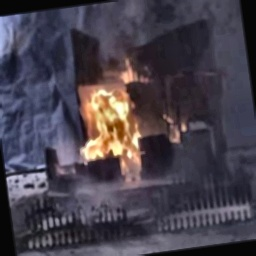fire: (72, 58, 159, 177)
